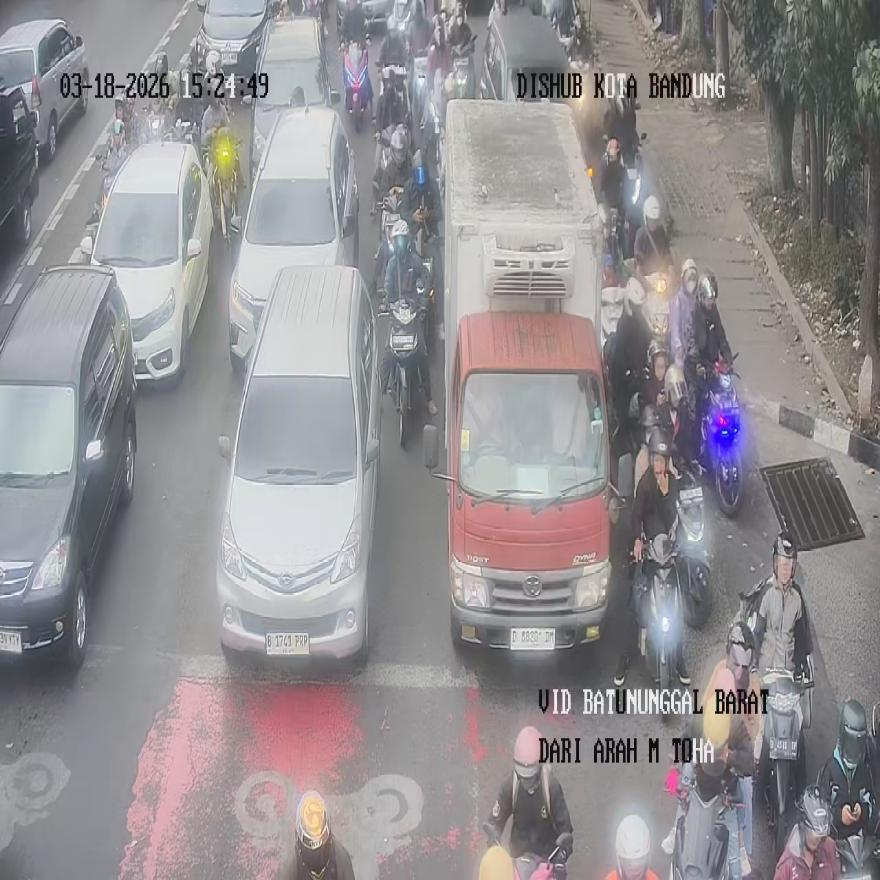Motor: (424, 100, 630, 649), (215, 264, 381, 665), (0, 265, 136, 666), (228, 103, 358, 369), (80, 139, 214, 385), (250, 14, 340, 174), (0, 18, 91, 165), (480, 0, 574, 101), (0, 86, 38, 250)
Truk: (758, 664, 813, 848), (668, 759, 750, 879), (638, 530, 683, 722), (695, 353, 743, 515), (387, 294, 429, 443), (774, 784, 840, 878), (672, 471, 711, 628), (206, 128, 242, 250), (374, 188, 405, 303), (620, 132, 647, 260), (343, 40, 373, 132), (374, 62, 408, 142), (450, 37, 474, 99)
